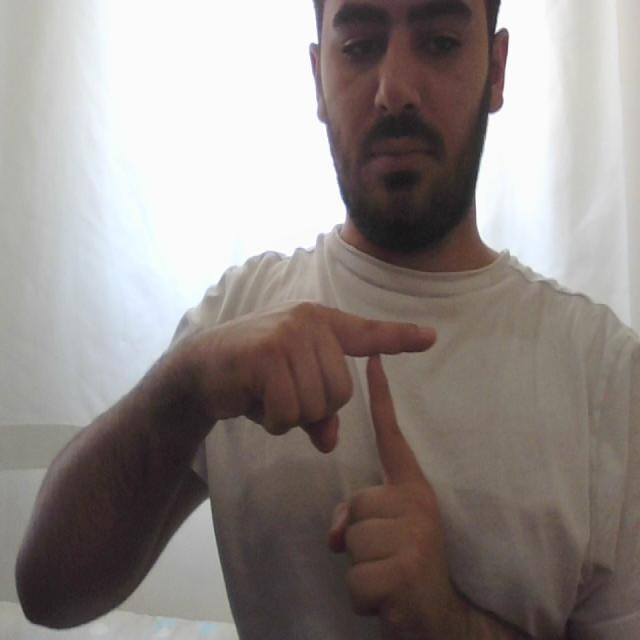Tesekkurler: (329, 292, 444, 511)
